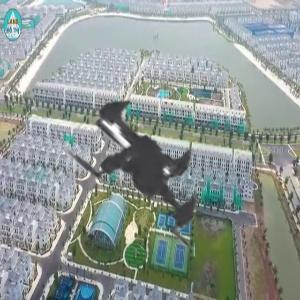drone: (10, 12, 297, 299)
